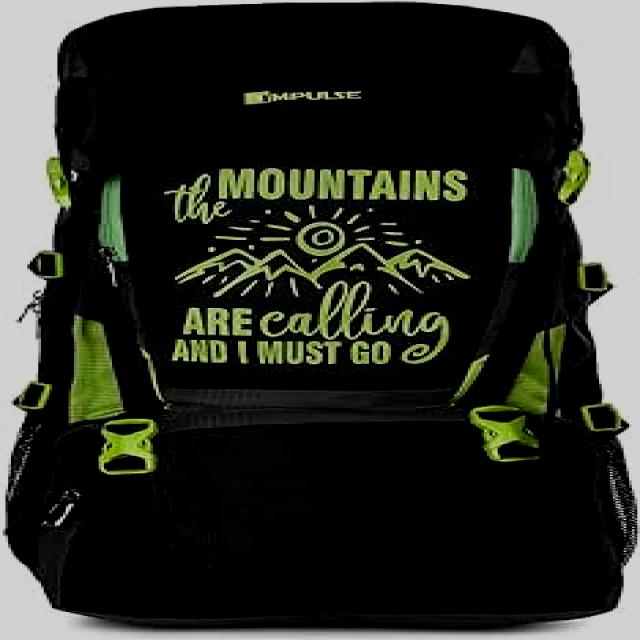backpack: (7, 1, 640, 638)
